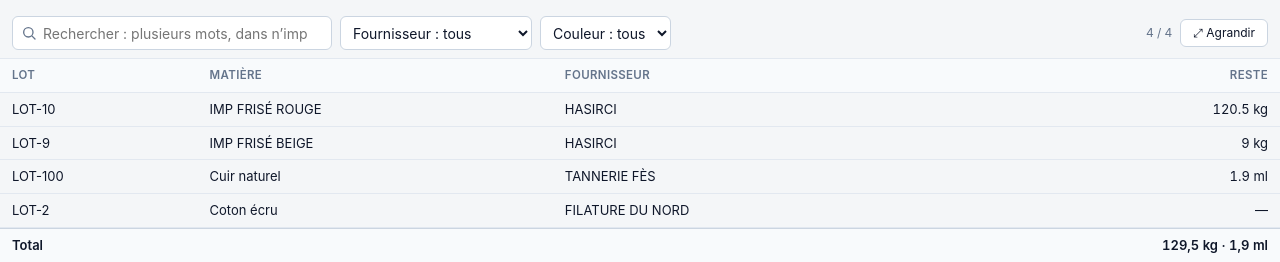
Test: DataTable — filtres › liés : choisir un fournisseur ne propose plus que ses couleurs, avec leur nombre
(page scrolled)
Select "HASIRCI (2)" in the dropdown named "Fournisseur" at (436, 33), box [340,16,532,50]
(page scrolled)
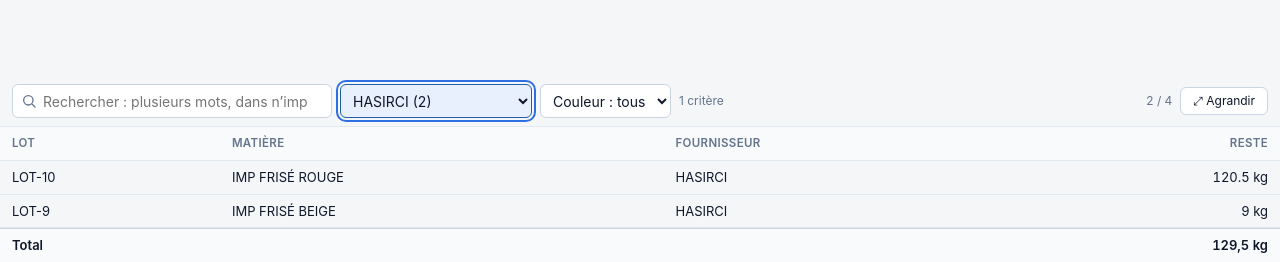
Check: the button "Effacer les filtres" is not shown
Check: the text "1 critère" is shown, box [679,92,724,110]
Select "Rouge (1)" in the dropdown named "Couleur" at (606, 101), box [540,84,671,118]
(page scrolled)
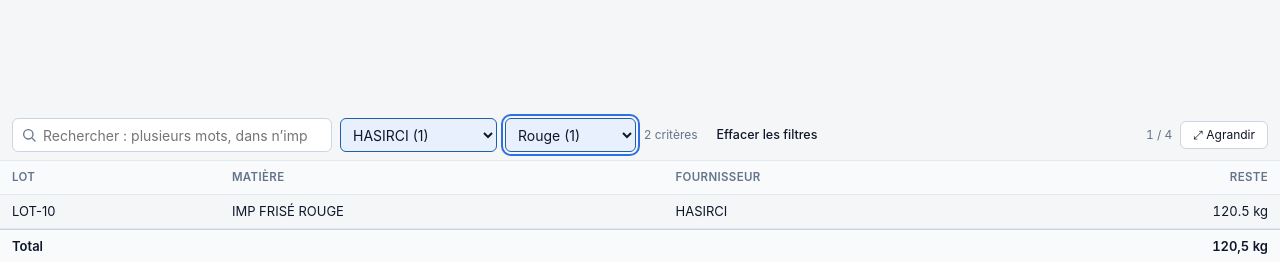
Check: the text "2 critères" is shown, box [644,126,698,144]
Click the button "Effacer les filtres" at (767, 135), box [706,121,828,149]
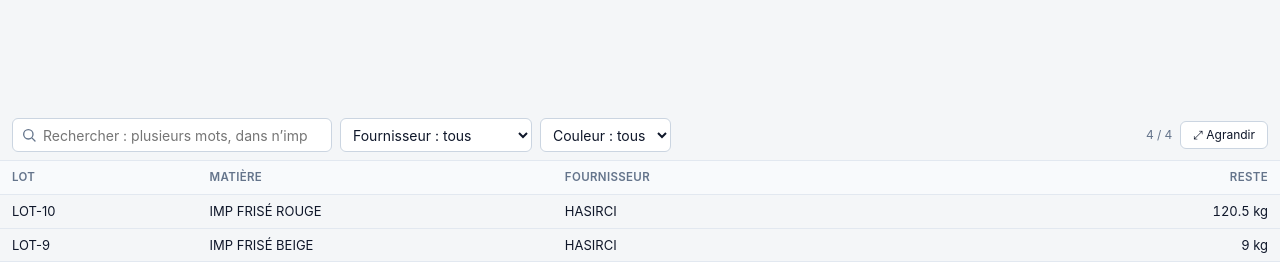
Check: the text "critère" is gone
